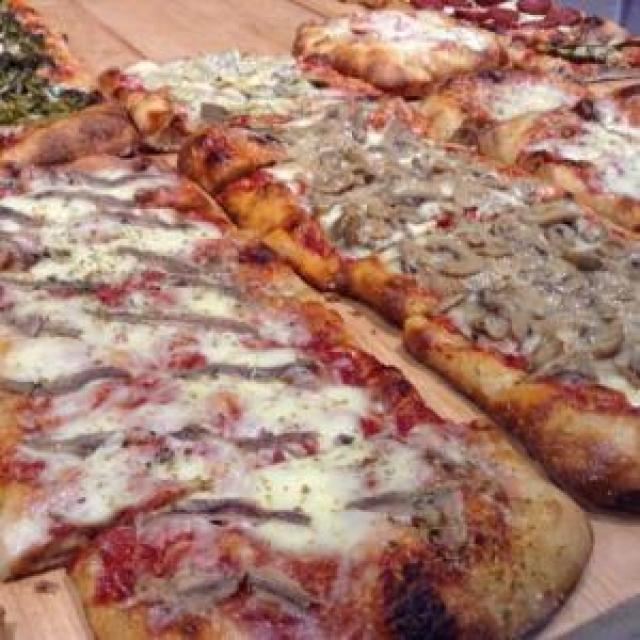Pizza: (0, 0, 444, 585), (99, 50, 639, 524), (64, 417, 591, 639), (295, 7, 639, 228)
